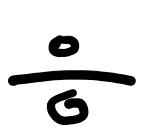div: (9, 35, 137, 125)
